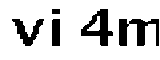4: (78, 6, 113, 51)
i: (49, 5, 64, 50)
m: (116, 13, 160, 49)
v: (9, 17, 45, 48)
